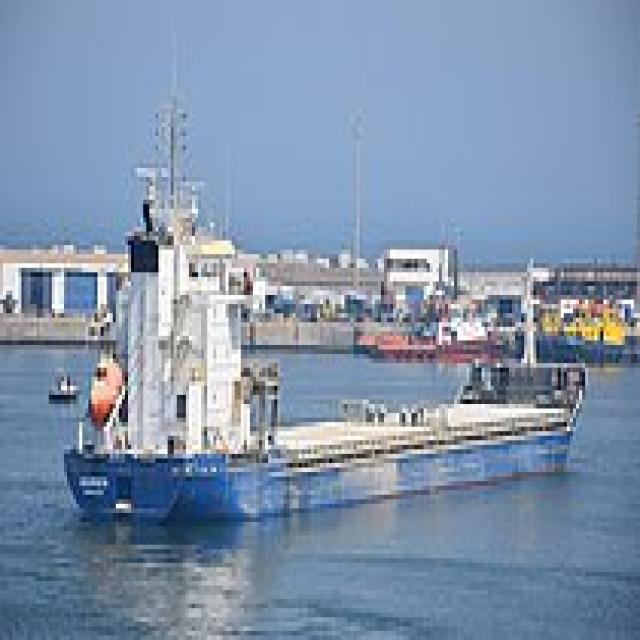Cargo: (58, 95, 585, 518)
